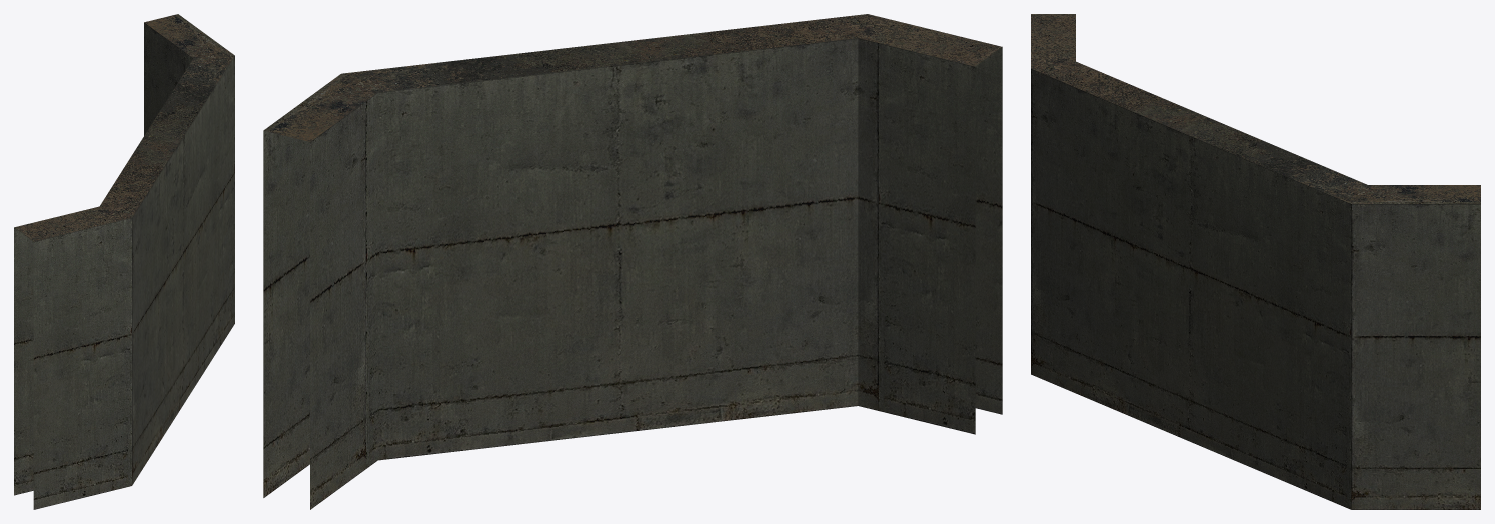
The model's file is wall_rg_1_m1a_1.glb.
3 renders of one model, left to right at view 1: azimuth 30°, elevation 25°; view 2: azimuth 150°, elevation 25°; view 3: azimuth 270°, elevation 25°, orthographic. The views are drawn at different scales.
Parts seen in each view (by area): view 1: wall_rg_1_m1a_1; view 2: wall_rg_1_m1a_1; view 3: wall_rg_1_m1a_1.
Part boxes in pixels (bbox=[...]): wall_rg_1_m1a_1: bbox=[14, 14, 234, 509]; wall_rg_1_m1a_1: bbox=[263, 14, 1002, 509]; wall_rg_1_m1a_1: bbox=[1031, 14, 1480, 509].
Size of the model in its own units: 4 by 3 by 4.
2 materials, 2 textured.
